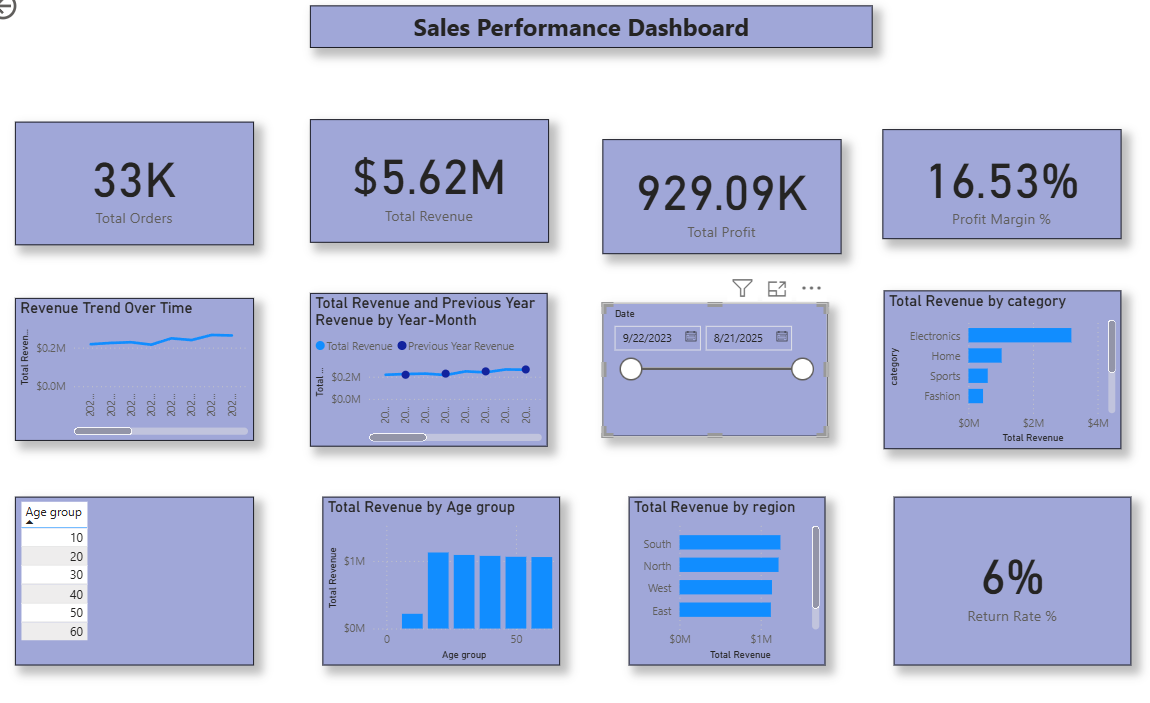

What the dashboard file says about the page in this screenshot:
{"tool":"powerbi","page":{"name":"Sales Overview","canvas":[1300,800],"ordinal":0},"visuals":[{"type":"card","fields":{"Values":["KPI_Measure.Total Revenue"]},"box":[362.4,146.3,266.2,138],"z":0},{"type":"card","fields":{"Values":["KPI_Measure.Total Orders"]},"box":[33.4,149.1,266.2,138],"z":1000},{"type":"card","fields":{"Values":["KPI_Measure.Total Profit"]},"box":[688.5,168.6,266.2,128.2],"z":2000},{"type":"card","fields":{"Values":["KPI_Measure.Profit Margin %"]},"box":[1000.4,157.5,266.2,122.6],"z":3000},{"type":"lineChart","title":"Revenue Trend Over Time ","fields":{"Category":["Date Table.Year-Month"],"Y":["Ecommerce.Total Revenue"]},"box":[33.4,346.1,266.2,158.9],"z":4000},{"type":"lineChart","fields":{"Y":["Ecommerce.Total Revenue","Ecommerce.Previous Year Revenue"],"Category":["Date Table.Year-Month"]},"box":[361.9,339.9,264.8,171.4],"z":5000},{"type":"slicer","fields":{"Values":["Date Table.Date"]},"box":[688.9,351,250.9,149.1],"z":6000},{"type":"clusteredBarChart","fields":{"Category":["Ecommerce.category"],"Y":["Ecommerce.Total Revenue"]},"box":[1002,337.1,264.8,177],"z":7000},{"type":"tableEx","fields":{"Values":["Ecommerce.customer_age (bins)"]},"box":[33.4,566.9,266.2,188.1],"z":8000},{"type":"actionButton","box":[0,0,100,40],"z":9000},{"type":"clusteredColumnChart","fields":{"Category":["Ecommerce.Age group"],"Y":["Ecommerce.Total Revenue"]},"box":[376.3,566.9,264.8,188.1],"z":10000},{"type":"clusteredBarChart","fields":{"Category":["Ecommerce.region"],"Y":["Ecommerce.Total Revenue"]},"box":[717.7,566.9,218.8,188.1],"z":11000},{"type":"card","fields":{"Values":["Ecommerce.Return Rate %"]},"box":[1013.2,566.9,264.8,188.1],"z":12000},{"type":"textbox","box":[362.4,19.5,627.1,47.4],"z":12001}]}

Visuals, with their boxes in screenshot pixels (x1, y1, x2, y2), scaled from the page's 1300x800 canvas onto the 1150x703 screenshot:
card - KPI_Measure.Total Revenue: left=321, top=129, right=556, bottom=250
card - KPI_Measure.Total Orders: left=30, top=131, right=265, bottom=252
card - KPI_Measure.Total Profit: left=609, top=148, right=845, bottom=261
card - KPI_Measure.Profit Margin %: left=885, top=138, right=1120, bottom=246
"Revenue Trend Over Time " lineChart: left=30, top=304, right=265, bottom=444
lineChart - Ecommerce.Total Revenue x Ecommerce.Previous Year Revenue: left=320, top=299, right=554, bottom=449
slicer - Date Table.Date: left=609, top=308, right=831, bottom=439
clusteredBarChart - Ecommerce.category x Ecommerce.Total Revenue: left=886, top=296, right=1121, bottom=452
tableEx - Ecommerce.customer_age (bins): left=30, top=498, right=265, bottom=663
actionButton: left=0, top=0, right=88, bottom=35
clusteredColumnChart - Ecommerce.Age group x Ecommerce.Total Revenue: left=333, top=498, right=567, bottom=663
clusteredBarChart - Ecommerce.region x Ecommerce.Total Revenue: left=635, top=498, right=828, bottom=663
card - Ecommerce.Return Rate %: left=896, top=498, right=1131, bottom=663
textbox: left=321, top=17, right=875, bottom=59
